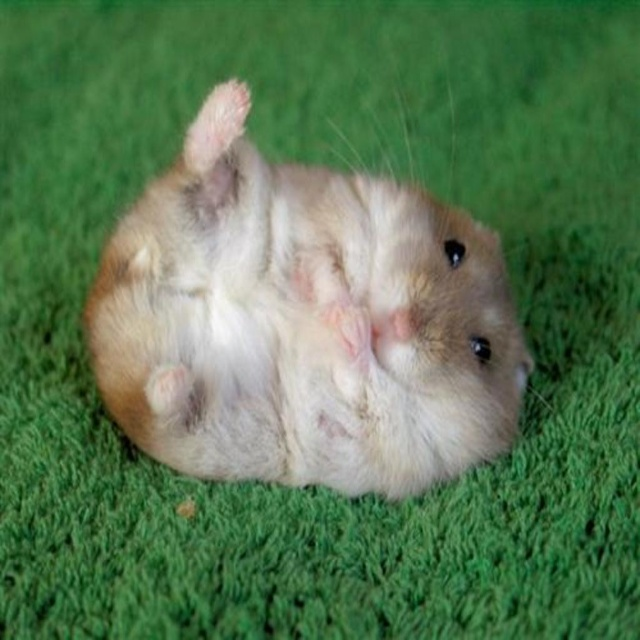Hamster: (83, 53, 552, 502)
